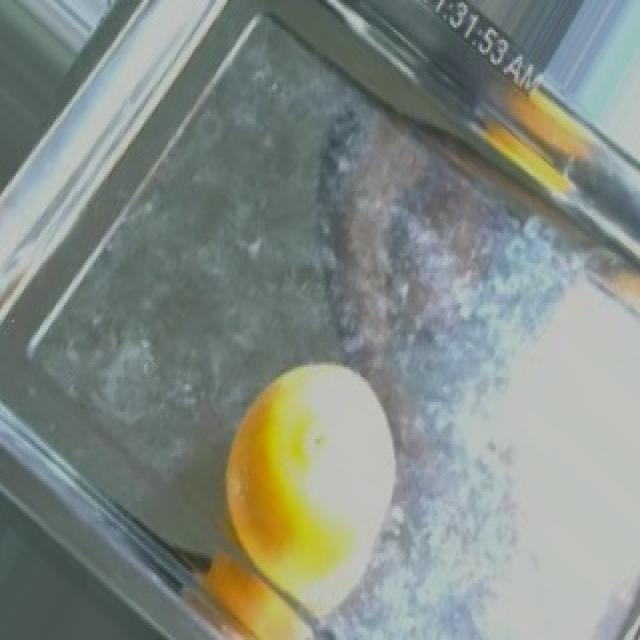Fruit: (214, 342, 420, 635)
